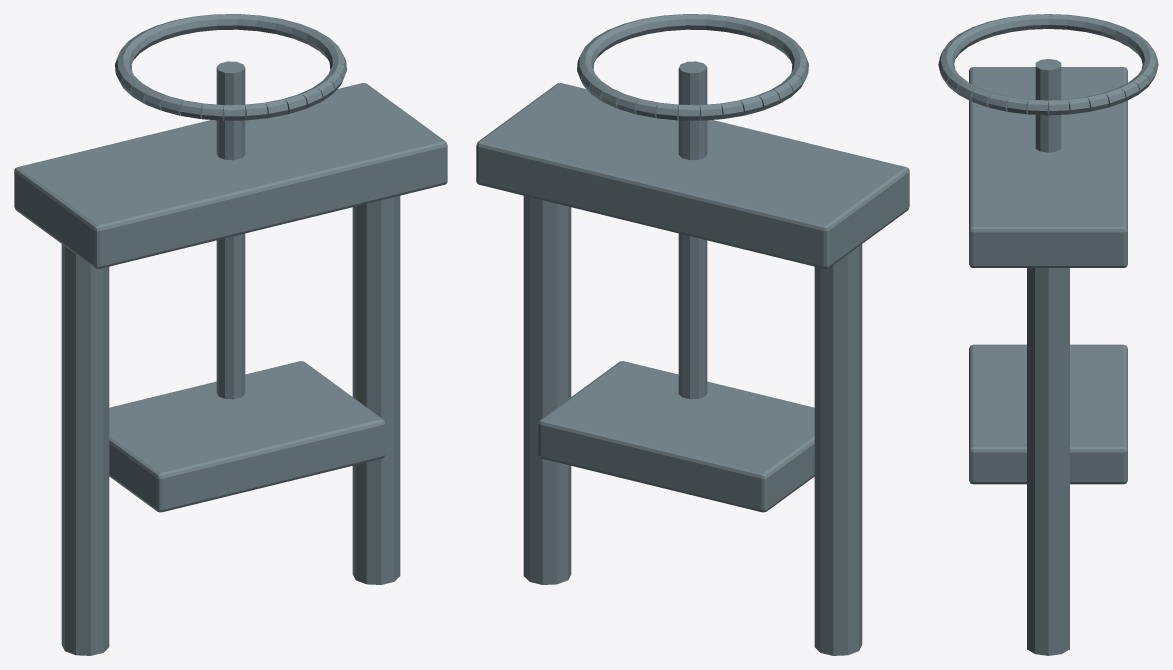
Rendered from a2_prop.glb.
3 views of the same model, side by side, from view 1: azimuth 30°, elevation 25°; view 2: azimuth 150°, elevation 25°; view 3: azimuth 270°, elevation 25° (orthographic). The views are drawn at different scales.
Visible parts, largest first — view 1: Body.013; view 2: Body.013; view 3: Body.013.
Part boxes in pixels (box(x1,y1,x2,y2)): Body.013: box(14, 14, 447, 655); Body.013: box(476, 14, 909, 655); Body.013: box(938, 14, 1158, 655).
Size of the model in its own units: 1.7 by 2.54 by 0.9697.
